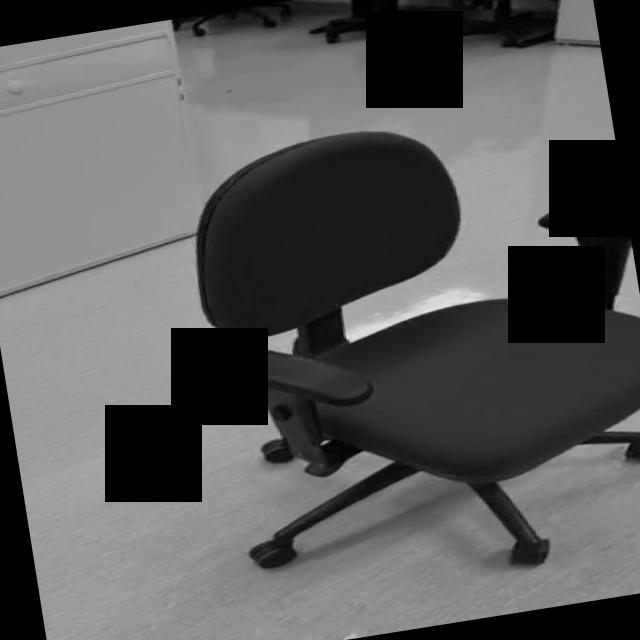cadeira-azul: (174, 90, 640, 610)
